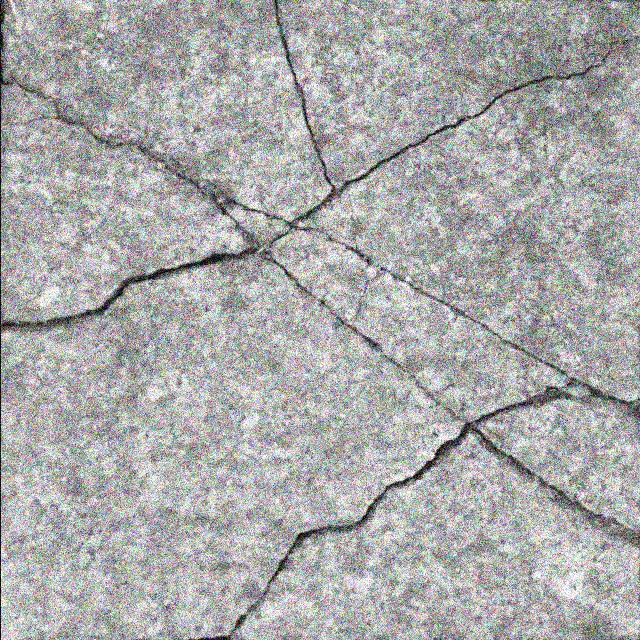SurfaceCrack: (0, 1, 639, 421), (18, 340, 640, 640)
